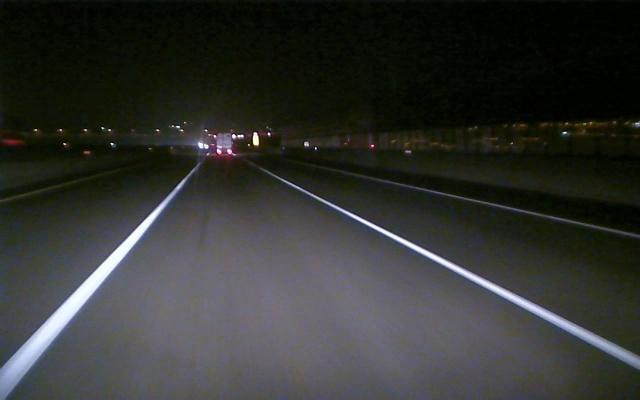lane: (275, 177, 637, 369), (0, 181, 185, 395), (387, 181, 640, 239), (0, 168, 124, 203)
